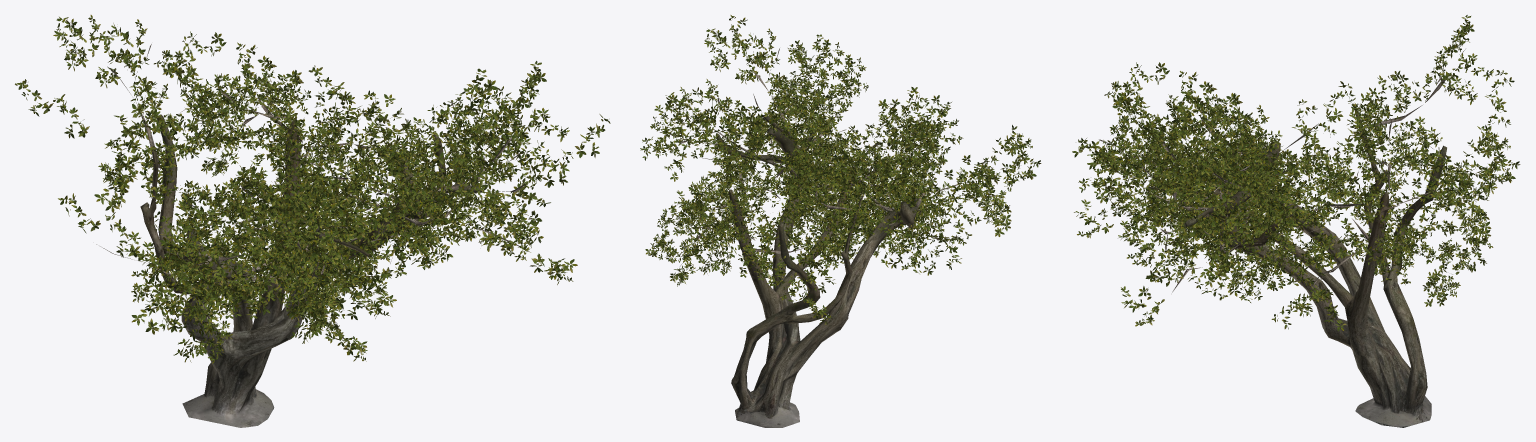
The model's file is island_tree_02_mid.gltf.
3 views of the same model, side by side, from view 1: azimuth 30°, elevation 25°; view 2: azimuth 150°, elevation 25°; view 3: azimuth 270°, elevation 25° (orthographic). The views are drawn at different scales.
Parts seen in each view (by area): view 1: island_tree_02_LOD0; view 2: island_tree_02_LOD0; view 3: island_tree_02_LOD0.
Part boxes in pixels (x1=…): island_tree_02_LOD0: x1=15, y1=15, x2=610, y2=427; island_tree_02_LOD0: x1=640, y1=15, x2=1041, y2=427; island_tree_02_LOD0: x1=1072, y1=15, x2=1520, y2=427.
Size of the model in its own units: 3.88 by 3.41 by 4.08.
Materials: 3 (3 with a texture image).
